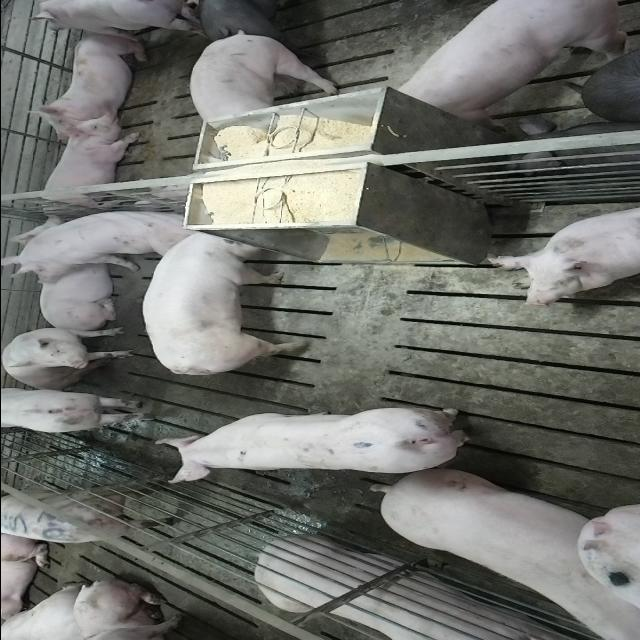Sitting: (0, 207, 185, 280), (1, 325, 133, 389)
Standing: (390, 2, 630, 122), (153, 406, 479, 483), (135, 224, 300, 372), (192, 30, 342, 128), (2, 482, 170, 544), (2, 388, 154, 437), (25, 0, 204, 32), (190, 0, 312, 41)
Sternal_lying: (250, 537, 582, 640), (482, 202, 640, 306), (18, 30, 146, 137), (30, 119, 140, 215), (26, 260, 121, 328)
